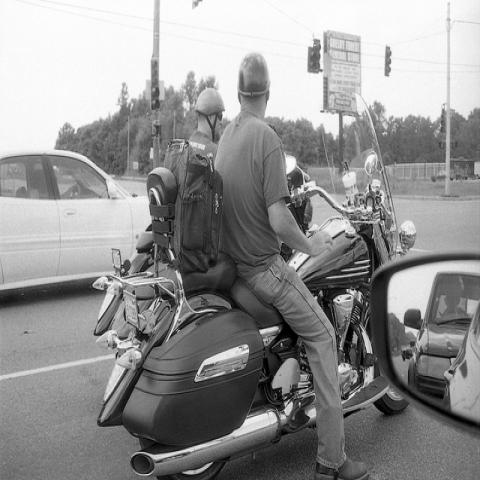car: (0, 151, 151, 292), (403, 271, 479, 401), (431, 171, 453, 182)
motorcycle: (92, 89, 417, 474)
truck: (404, 267, 480, 399)
